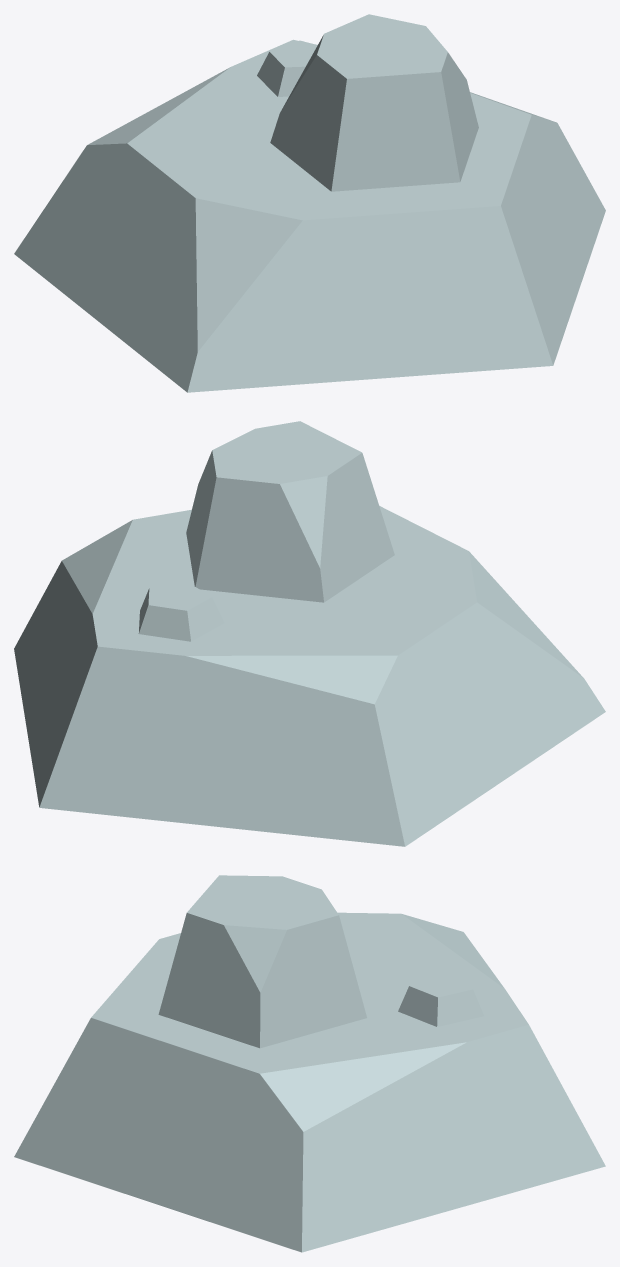
The model's file is stone_smallTopB.gltf.
The picture shows the model from 3 angles, top to bottom: view 1: azimuth 30°, elevation 25°; view 2: azimuth 150°, elevation 25°; view 3: azimuth 270°, elevation 25°; orthographic projection. The views are drawn at different scales.
Parts seen in each view (by area): view 1: stone_smallTopB; view 2: stone_smallTopB; view 3: stone_smallTopB.
Boxes of the visible parts, x1,y1,x2,y2 form: stone_smallTopB: [14, 14, 605, 392]; stone_smallTopB: [14, 421, 605, 846]; stone_smallTopB: [14, 875, 605, 1252].
Bounding box in the file's own units: 0.6221 × 0.28 × 0.6463.
